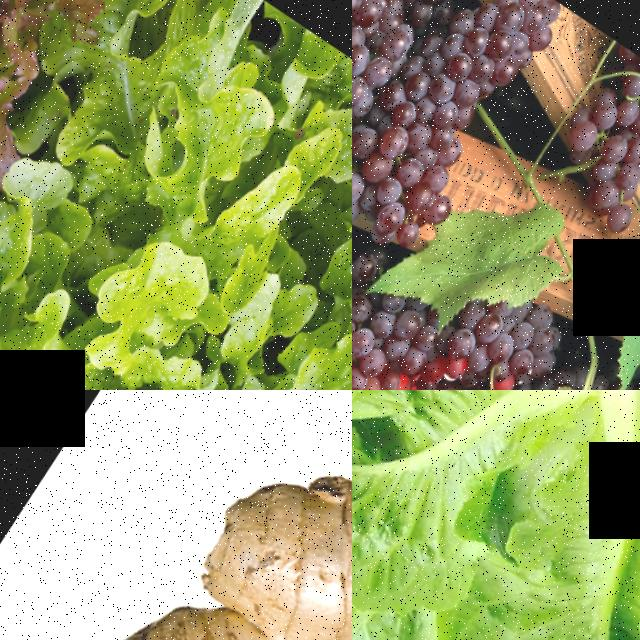ginger: (0, 390, 352, 640)
grapes: (352, 0, 572, 254), (352, 0, 422, 280), (541, 26, 640, 218), (440, 270, 577, 390), (352, 0, 427, 42)
lettuce: (0, 0, 352, 390), (352, 390, 640, 640)
